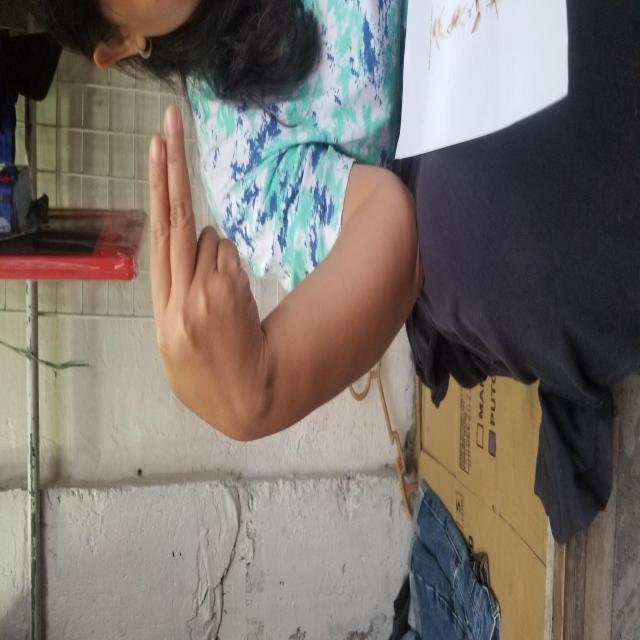H: (197, 148, 538, 267)
